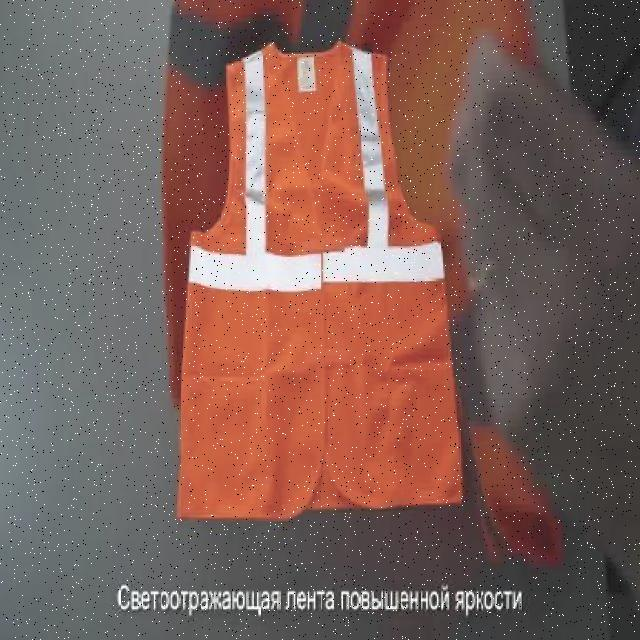Mask: (174, 41, 466, 526)
